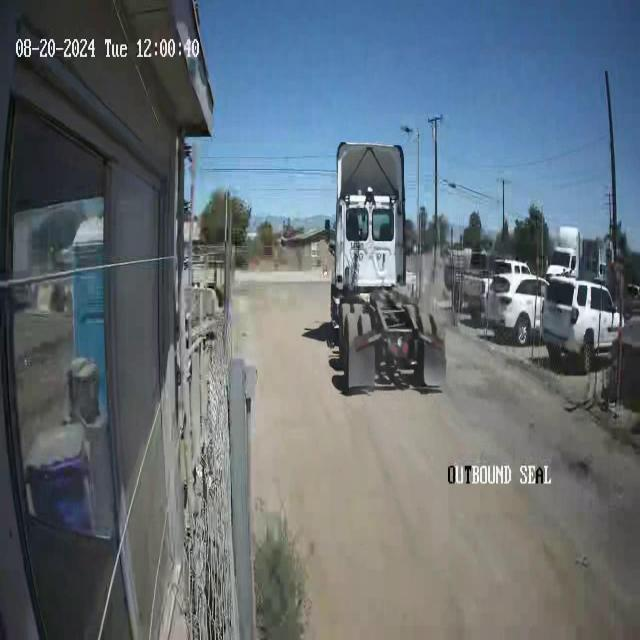BOBTAIL: (324, 140, 449, 394)
